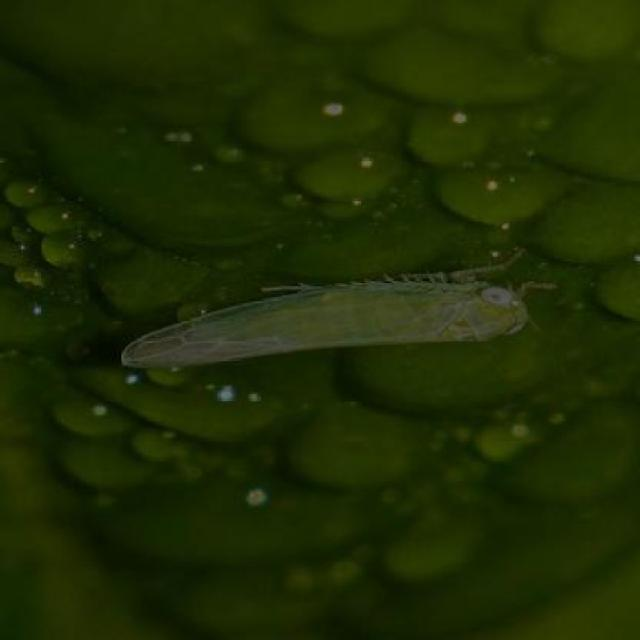green-leafhopper: (119, 266, 536, 374)
